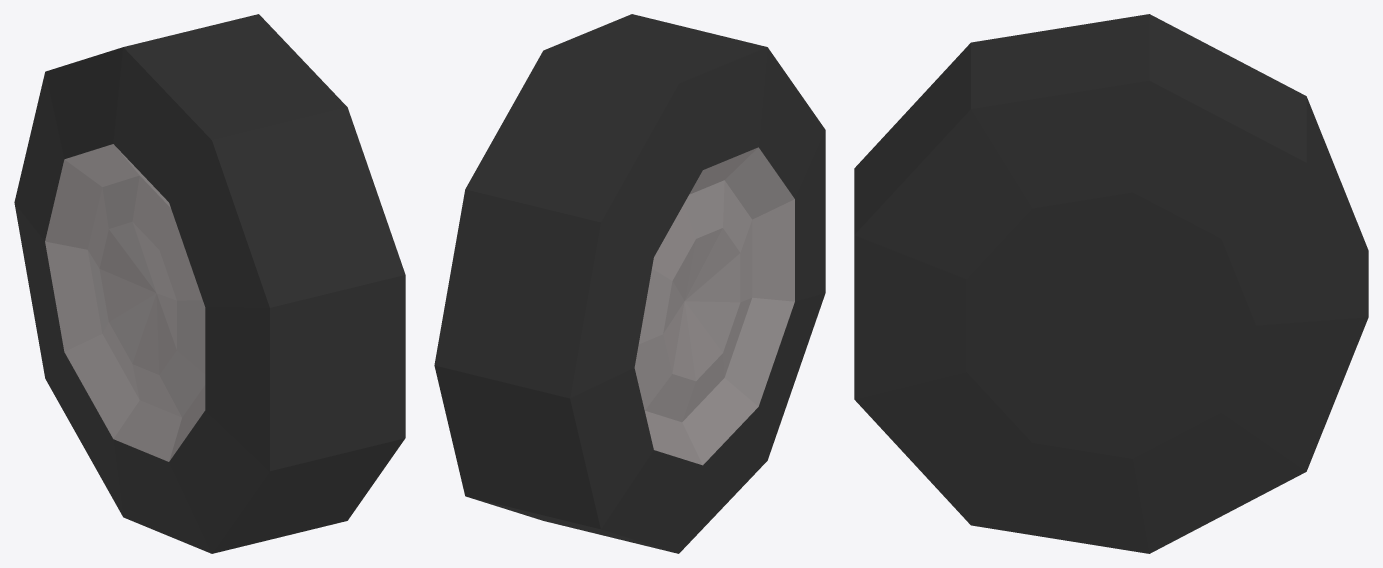
File: firetruckwheel_FR.glb
3 renders of one model, left to right at view 1: azimuth 30°, elevation 25°; view 2: azimuth 150°, elevation 25°; view 3: azimuth 270°, elevation 25°, orthographic.
Parts seen in each view (by area): view 1: firetruckwheel_FR; view 2: firetruckwheel_FR; view 3: firetruckwheel_FR.
Boxes of the visible parts, x1=… form: firetruckwheel_FR: x1=14, y1=14, x2=405, y2=553; firetruckwheel_FR: x1=434, y1=14, x2=825, y2=553; firetruckwheel_FR: x1=854, y1=14, x2=1368, y2=553.
Bounding box in the file's own units: 0.4136 × 1.1 × 1.08.
1 material, 1 textured.
